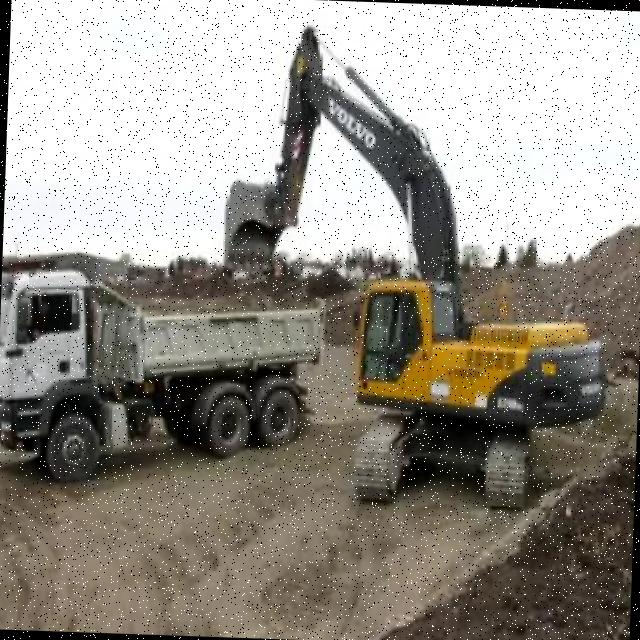Dump Truck: (0, 263, 324, 490)
Excavator: (214, 21, 618, 512)
